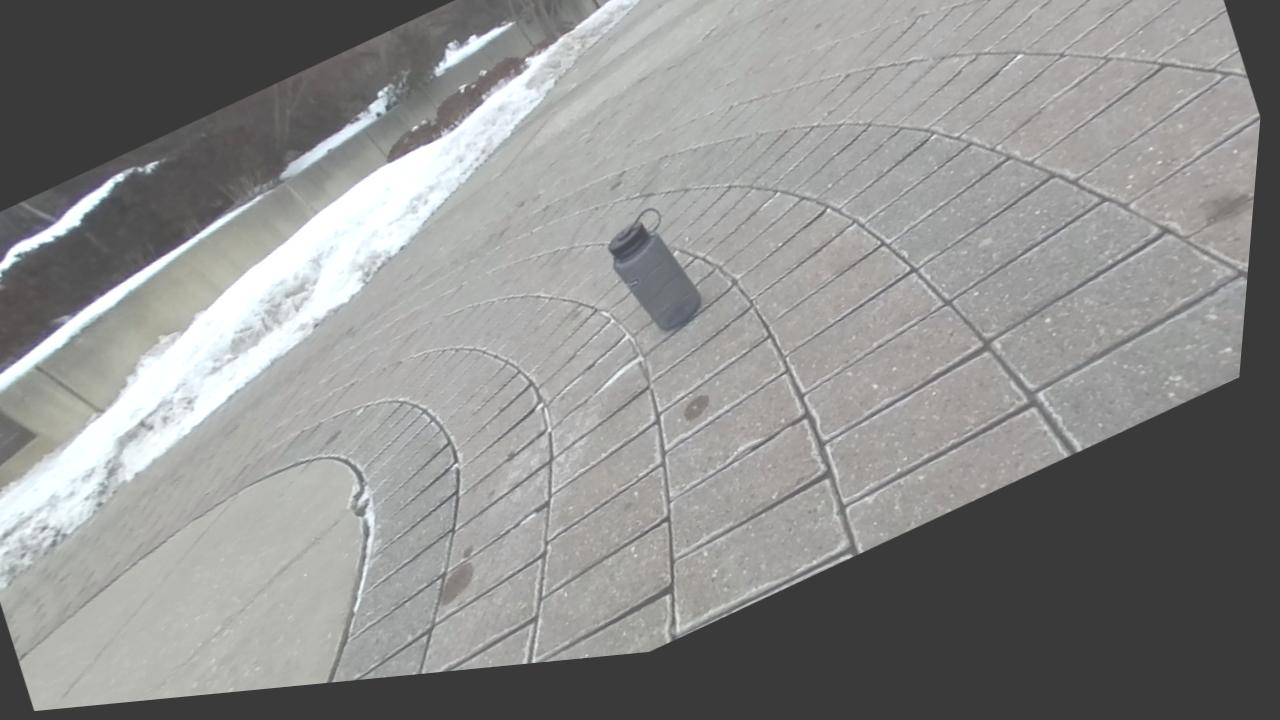bottle: (608, 209, 699, 329)
